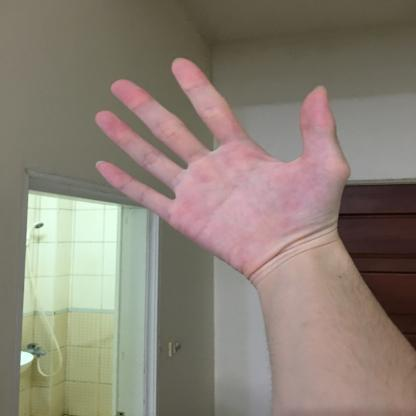bare_hand: (83, 48, 357, 282)
